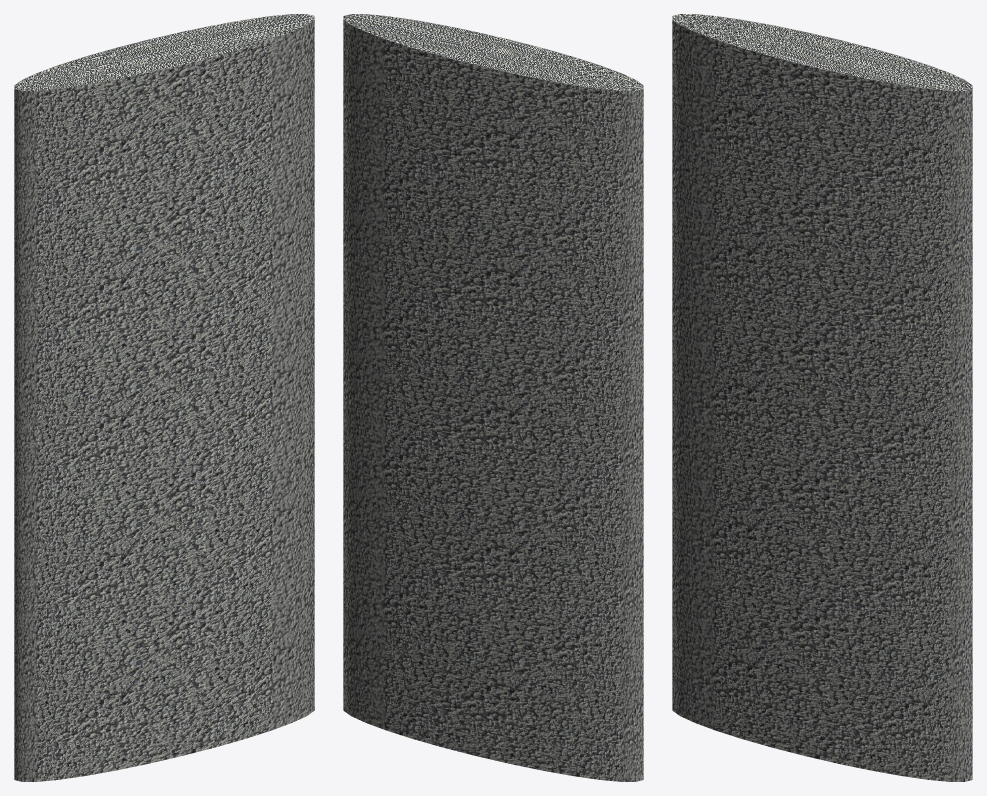
The model's file is column.obj.
3 renders of one model, left to right at view 1: azimuth 30°, elevation 25°; view 2: azimuth 150°, elevation 25°; view 3: azimuth 330°, elevation 25°, orthographic.
Visible parts, largest first — view 1: column; view 2: column; view 3: column.
Part boxes in pixels (x1=…): column: x1=14, y1=14, x2=314, y2=781; column: x1=343, y1=14, x2=643, y2=781; column: x1=672, y1=14, x2=972, y2=781.
Bounding box in the file's own units: 50 × 110 × 10.
Materials: 1 (1 with a texture image).
